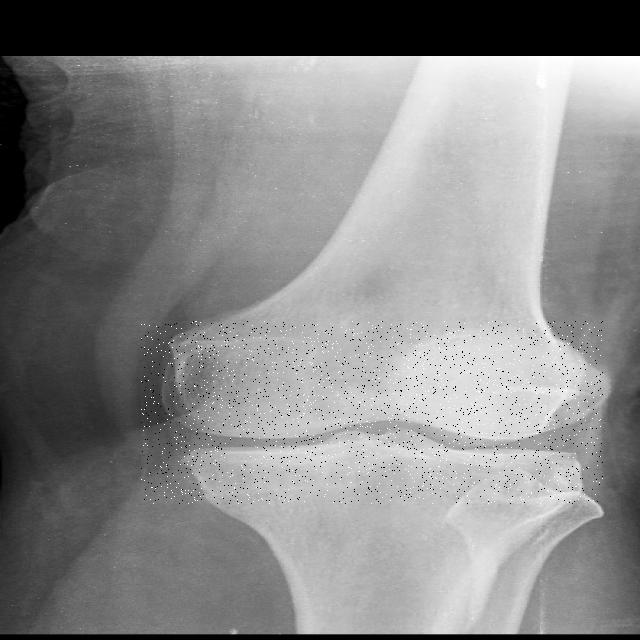normal: (141, 321, 603, 504)
